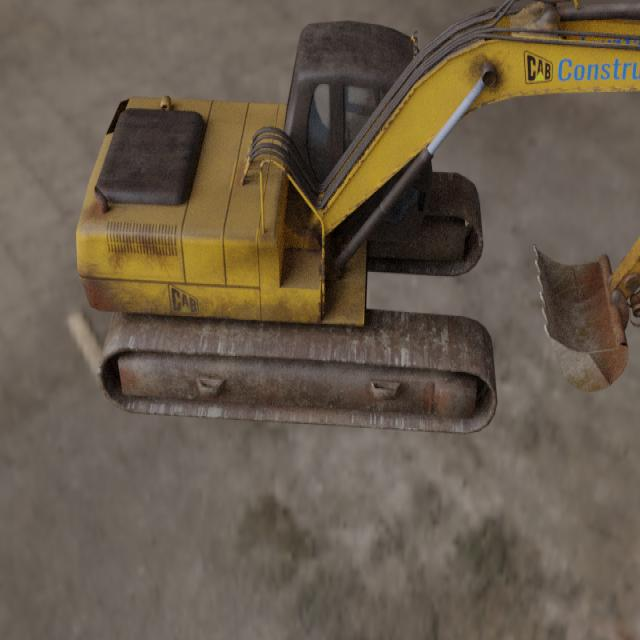excavator: (75, 0, 640, 436)
